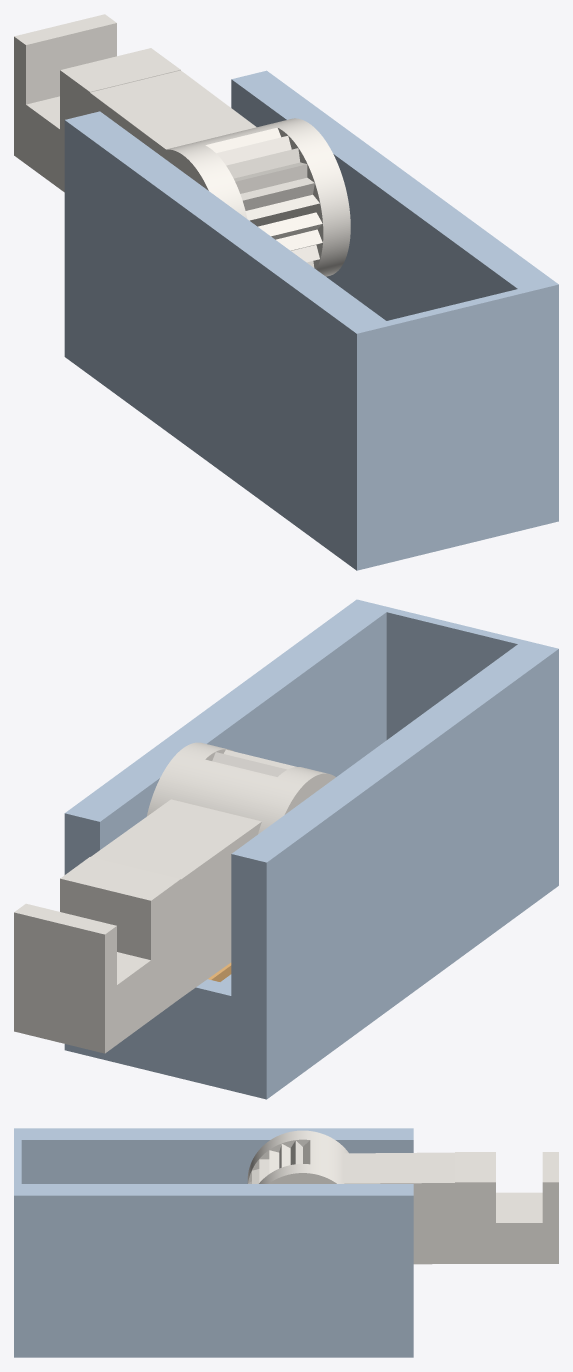
3 views of the same model, one above another, from view 1: azimuth 30°, elevation 25°; view 2: azimuth 150°, elevation 25°; view 3: azimuth 270°, elevation 25° (orthographic). The views are drawn at different scales.
Parts seen in each view (by area): view 1: connector, moving; view 2: connector, moving; view 3: connector, moving.
Part boxes in pixels (x1,y1,x2,y2): connector: (64,70,558,570); moving: (14,14,350,276); connector: (64,599,558,1099); moving: (14,742,335,1053); connector: (14,1128,413,1357); moving: (247,1130,558,1264).
Bounding box in the file's own units: 17.86 × 21.26 × 60.96.
